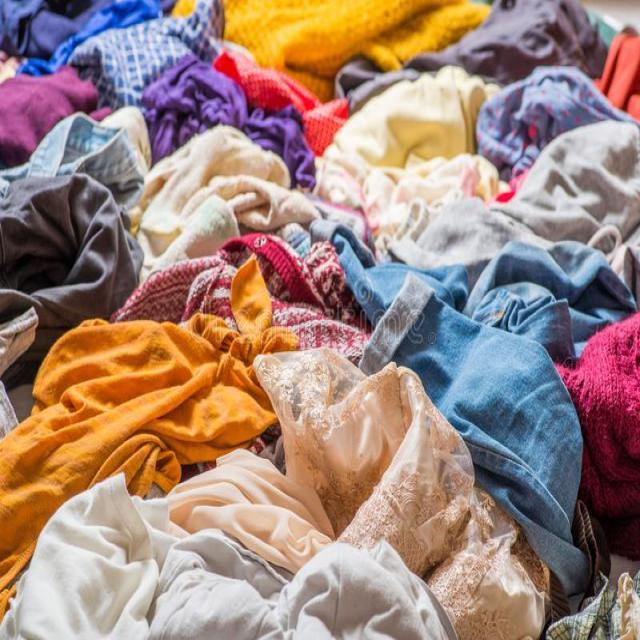clothes: (313, 200, 623, 589), (170, 339, 548, 640), (0, 253, 289, 639), (9, 448, 452, 640), (100, 219, 370, 372), (185, 2, 492, 102), (508, 110, 640, 290), (152, 58, 324, 190), (545, 306, 634, 555), (460, 54, 640, 174), (327, 70, 479, 204), (64, 10, 221, 124)
